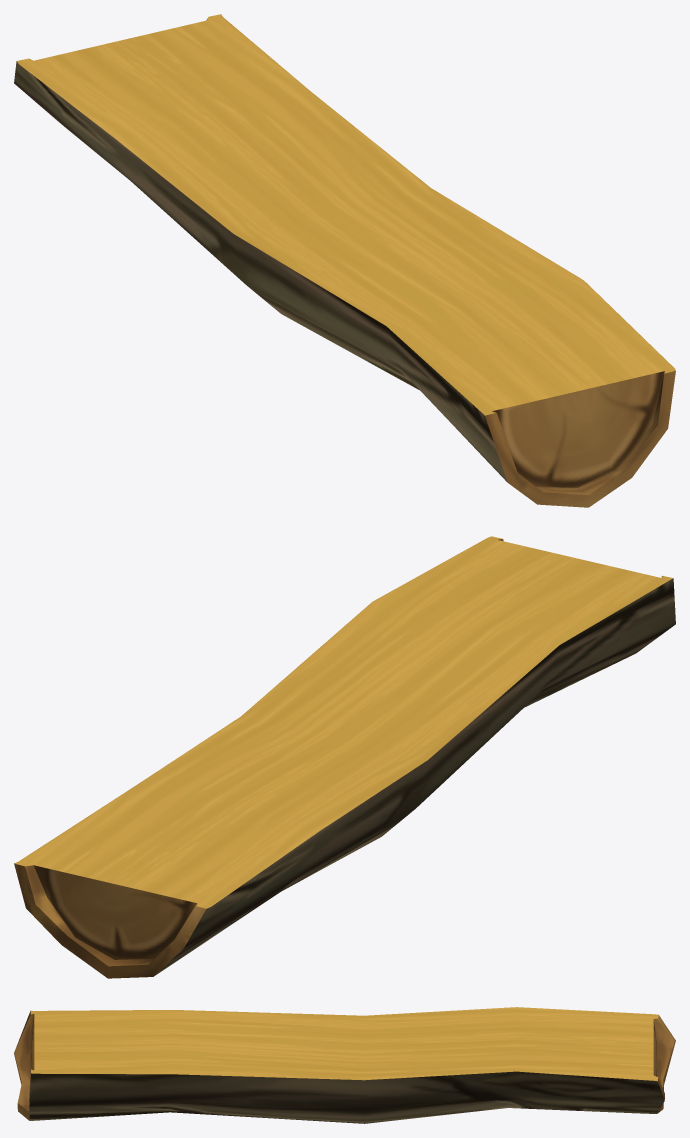
Rendered from Firewood01.fbx.
3 views of the same model, one above another, from view 1: azimuth 30°, elevation 25°; view 2: azimuth 150°, elevation 25°; view 3: azimuth 270°, elevation 25° (orthographic). The views are drawn at different scales.
Visible parts, largest first — view 1: Firewood01_LOD0; view 2: Firewood01_LOD0; view 3: Firewood01_LOD0.
Boxes of the visible parts, x1=… form: Firewood01_LOD0: x1=14, y1=14, x2=675, y2=507; Firewood01_LOD0: x1=14, y1=536, x2=675, y2=978; Firewood01_LOD0: x1=14, y1=1007, x2=675, y2=1123.
Size of what is drawn, in the model's own units: 11.23 by 5.93 by 45.58.
